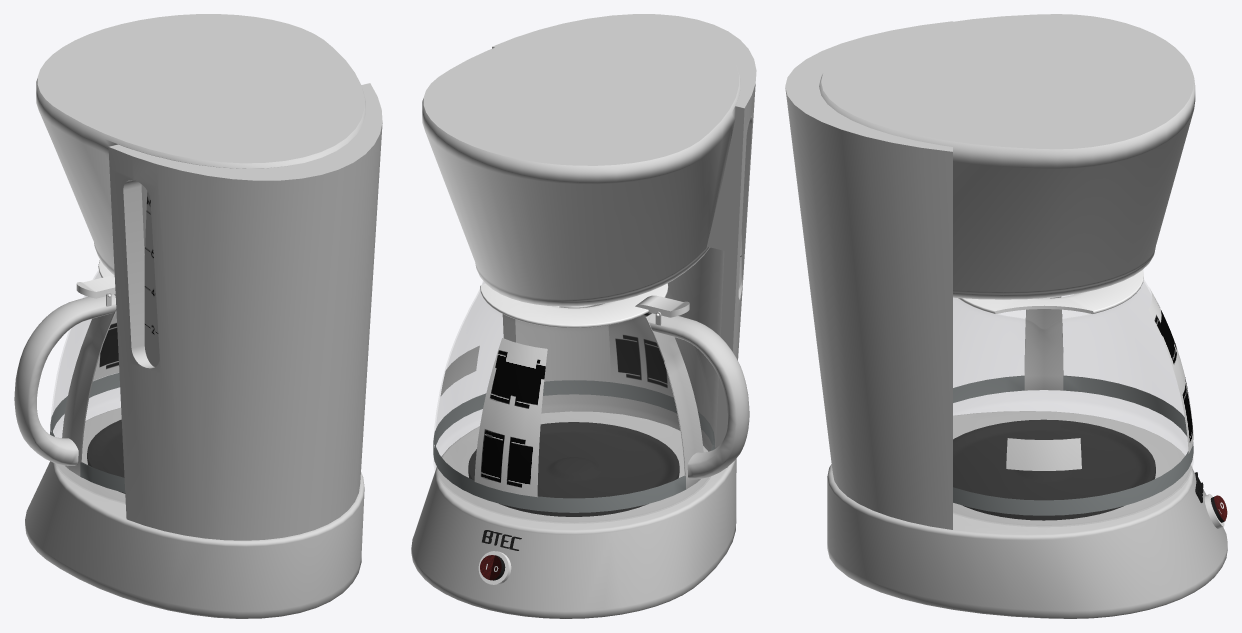
File: Coffee-Maker-001.fbx
3 views of the same model, side by side, from view 1: azimuth 30°, elevation 25°; view 2: azimuth 150°, elevation 25°; view 3: azimuth 270°, elevation 25° (orthographic). The views are drawn at different scales.
Visible parts, largest first — view 1: Component_4_1, Component_5_1, Coffee_Pot_Glass_001_1, Component_6_1, Component_14_1, Burner_1_1, Pot_Label_1_1, box; view 2: Component_5_1, Component_4_1, Coffee_Pot_Glass_001_1, Burner_1_1, Pot_Label_1_1, Component_6_1, Component_10_1, Pot_Label_1_2, Component_14_1, Pot_Label_2_1, box, box1; view 3: Component_4_1, Component_5_1, Coffee_Pot_Glass_001_1, Burner_1_1, Component_10_1, Pot_Label_2_1, Pot_Label_1_1.
Part boxes in pixels (box(x1,y1,x2,y2)): Component_4_1: box(25, 83, 382, 618); Component_5_1: box(36, 14, 365, 275); Coffee_Pot_Glass_001_1: box(50, 272, 125, 502); Component_6_1: box(14, 294, 116, 465); Component_14_1: box(123, 180, 159, 368); Burner_1_1: box(87, 419, 125, 493); Pot_Label_1_1: box(93, 312, 119, 380); box: box(76, 275, 115, 298); Component_5_1: box(422, 21, 740, 306); Component_4_1: box(411, 14, 756, 618); Coffee_Pot_Glass_001_1: box(433, 282, 715, 522); Burner_1_1: box(468, 422, 679, 516); Pot_Label_1_1: box(474, 338, 547, 497); Component_6_1: box(648, 313, 749, 479); Component_10_1: box(480, 283, 668, 327); Pot_Label_1_2: box(608, 312, 673, 396); Component_14_1: box(738, 116, 752, 299); Pot_Label_2_1: box(440, 345, 479, 396); box: box(635, 295, 689, 317); box1: box(480, 555, 505, 580); Component_4_1: box(785, 21, 1227, 618); Component_5_1: box(819, 14, 1195, 299); Coffee_Pot_Glass_001_1: box(953, 282, 1193, 525); Burner_1_1: box(953, 419, 1155, 520); Component_10_1: box(958, 270, 1143, 313); Pot_Label_2_1: box(1006, 438, 1081, 470); Pot_Label_1_1: box(1148, 289, 1193, 453).
Bounding box in the file's own units: 9.58 × 13.4 × 11.45.
Materials: 7 (2 with a texture image).
